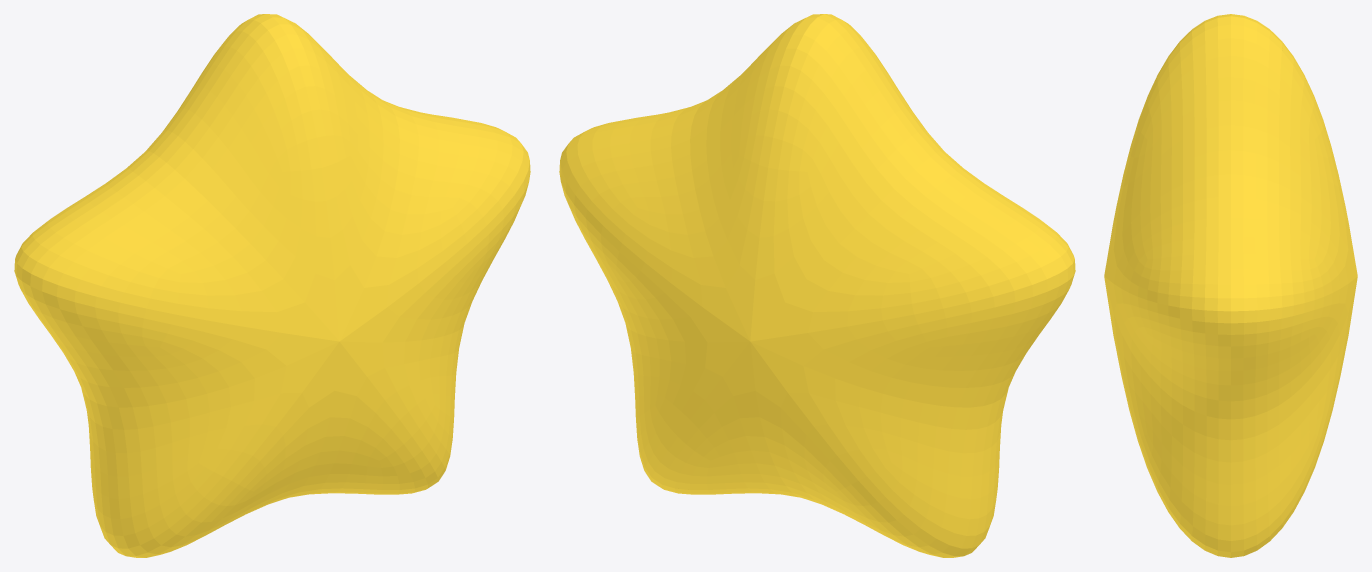
File: Star.glb
3 renders of one model, left to right at view 1: azimuth 30°, elevation 25°; view 2: azimuth 150°, elevation 25°; view 3: azimuth 270°, elevation 25°, orthographic. The views are drawn at different scales.
Visible parts, largest first — view 1: star.001; view 2: star.001; view 3: star.001.
Part boxes in pixels (<box>): star.001: <box>14,14,530,557</box>; star.001: <box>559,14,1075,557</box>; star.001: <box>1104,14,1357,557</box>.
Bounding box in the file's own units: 1.47 × 1.41 × 0.6821.
1 material, 1 textured.
